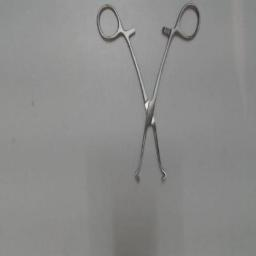Babcock Tissue Forceps: (92, 1, 202, 183)
